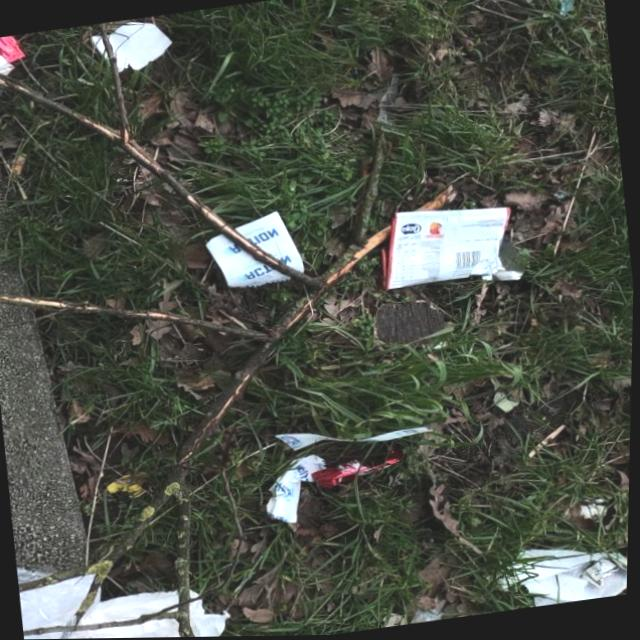Paper: (17, 536, 241, 640), (492, 535, 631, 613), (198, 206, 307, 294), (275, 414, 436, 456), (260, 453, 336, 528), (89, 15, 176, 77), (578, 499, 610, 523)
Plastic: (374, 195, 530, 300), (308, 448, 408, 491), (0, 34, 33, 110), (577, 556, 630, 593)
